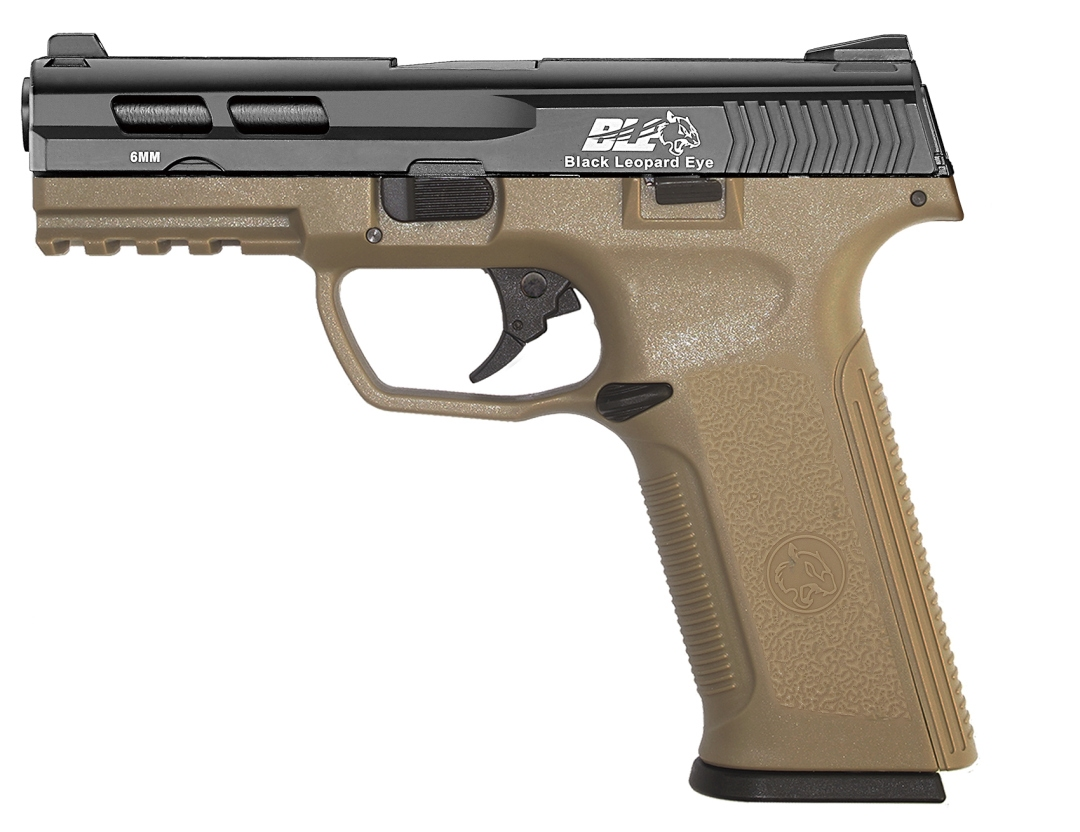asg_ics_ble_xae: (12, 25, 1002, 777)
